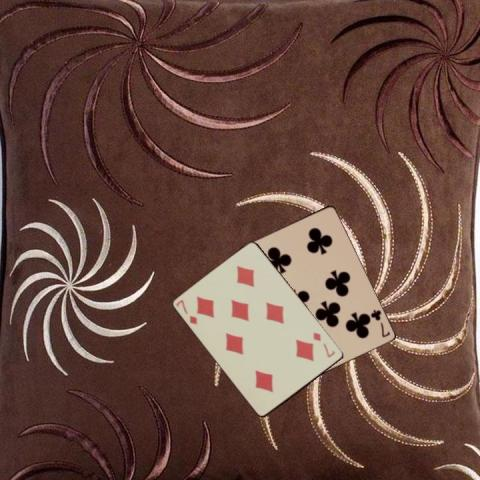7c: (367, 306, 391, 338)
7d: (310, 329, 337, 359), (173, 297, 199, 326)
